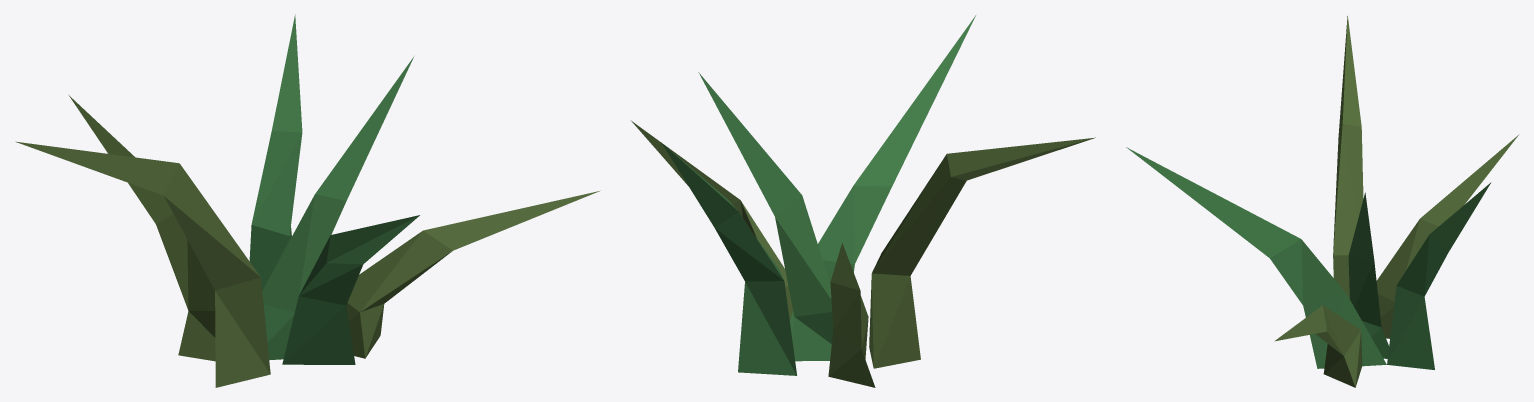
File: Grass_1 Asia.fbx
3 renders of one model, left to right at view 1: azimuth 30°, elevation 25°; view 2: azimuth 150°, elevation 25°; view 3: azimuth 270°, elevation 25°, orthographic. The views are drawn at different scales.
Visible parts, largest first — view 1: Grass_1; view 2: Grass_1; view 3: Grass_1.
Part boxes in pixels (x1,y1,x2,y2): Grass_1: [15, 14, 600, 387]; Grass_1: [630, 15, 1095, 387]; Grass_1: [1126, 16, 1519, 387].
Bounding box in the file's own units: 0.7881 × 0.4013 × 0.6249.
